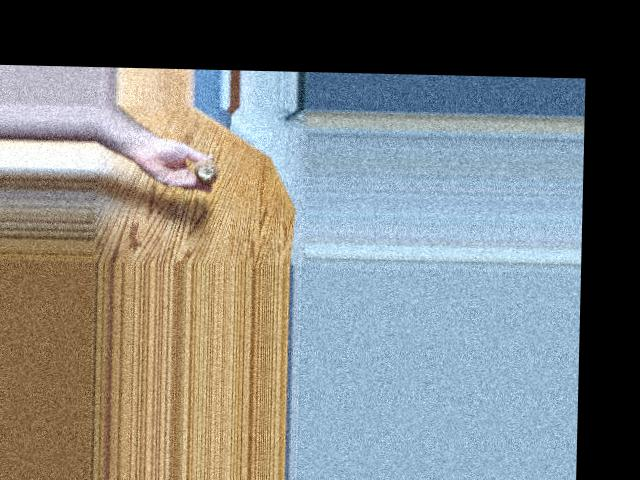sweet_potato: (193, 156, 224, 180)
